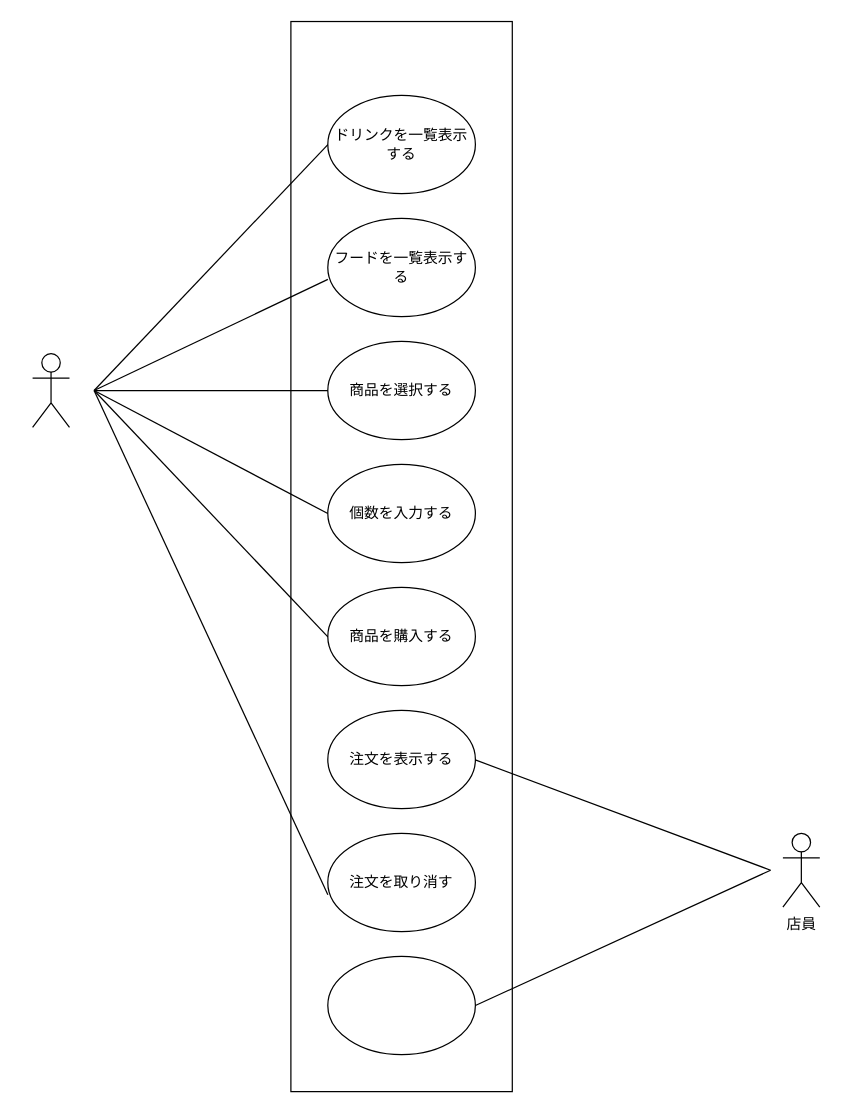
The diagram is 841 pixels wide and 1113 high, and some of its shapes have lost their labels. Here are the shapes that lost their labels. From the top down, the box of each, then its label:
(31, 352, 69, 427): お客さま
(290, 20, 512, 1092): モバイルオーダーアプリ
(327, 955, 475, 1055): 注文を渡した記録をつける
